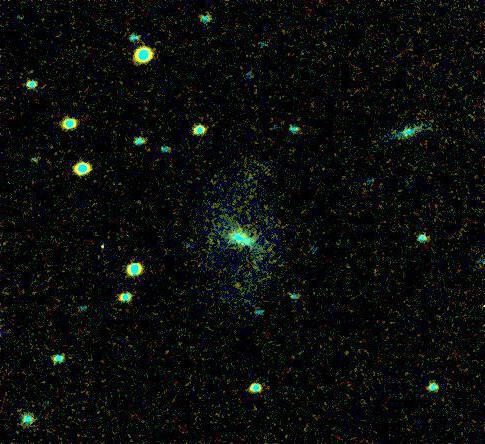star: (224, 271, 254, 301)
